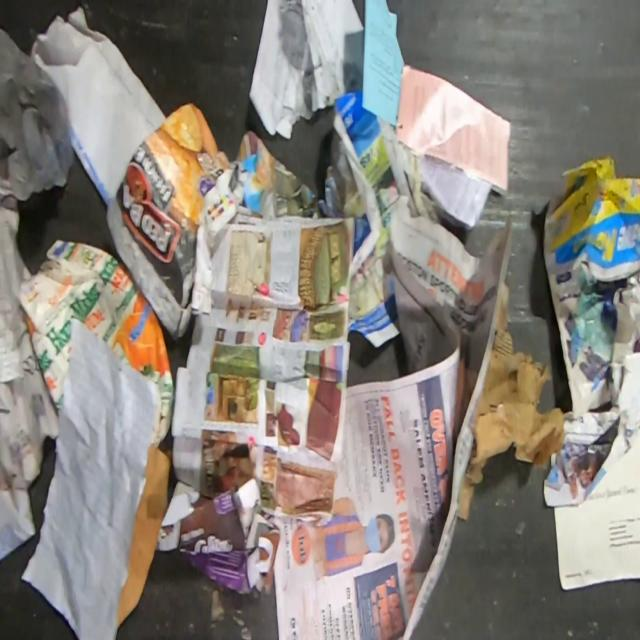cardboard: (17, 239, 175, 449), (458, 303, 564, 521), (117, 446, 169, 631)
soft_plastic: (0, 28, 73, 203)
